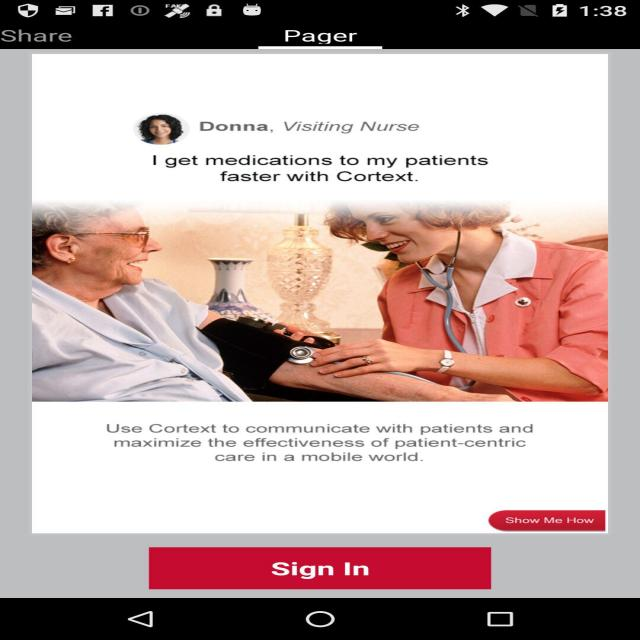button: (149, 544, 508, 594), (454, 505, 623, 541)
icon: (121, 114, 203, 145)
image: (43, 202, 599, 402)
text: (90, 416, 599, 469), (138, 149, 527, 192), (201, 111, 426, 131), (231, 27, 387, 51)
